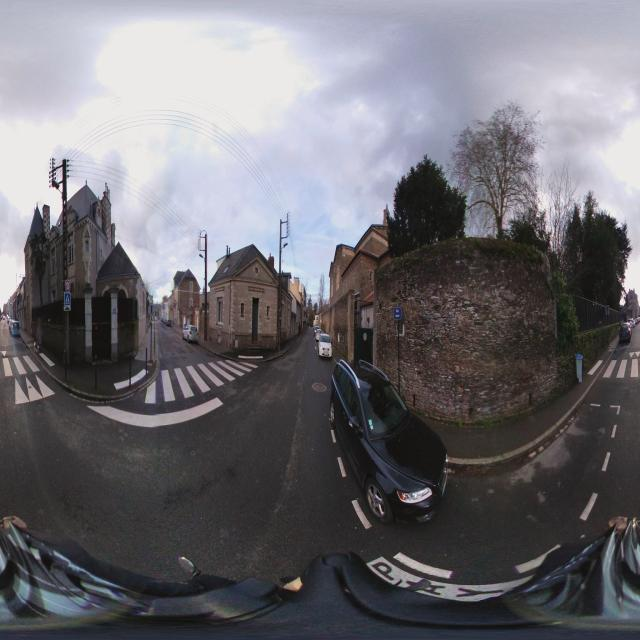car: (328, 358, 446, 528), (317, 333, 333, 360), (618, 321, 631, 345), (187, 324, 200, 344), (10, 319, 20, 337), (182, 323, 190, 339)
